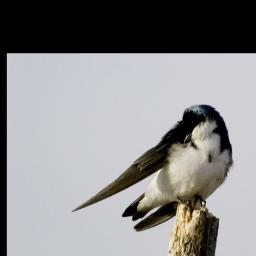Swallow: (70, 87, 242, 244)
